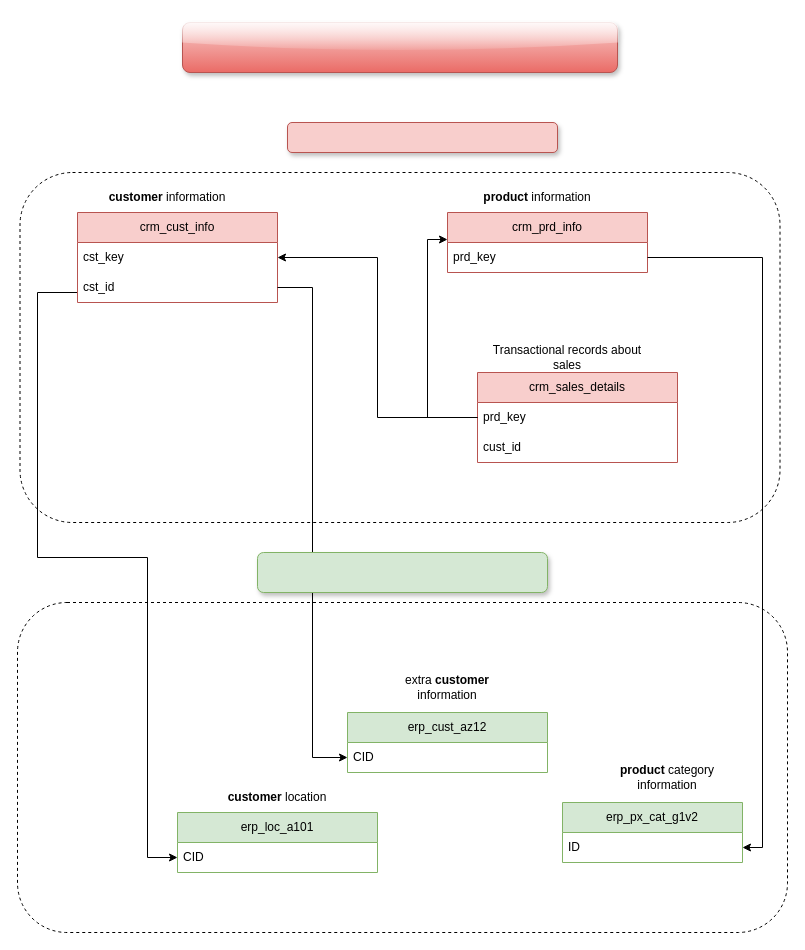
Image size: 805x950. Some labels were removed from this diagram. The centre of each missing label's shape, as x and y in pixels:
CRM SOURCE: point 423,139
ERP SOURCE: point 403,574
INTEGRATION MODEL: point 401,49
